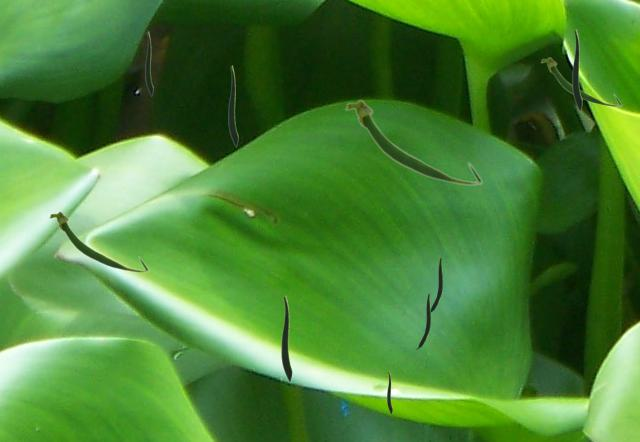french_bean: (344, 99, 482, 185), (48, 210, 148, 272), (540, 56, 621, 106), (281, 295, 291, 381), (228, 65, 237, 146), (572, 29, 581, 110), (416, 293, 429, 348), (430, 257, 441, 312), (145, 31, 152, 95), (387, 371, 391, 413)
